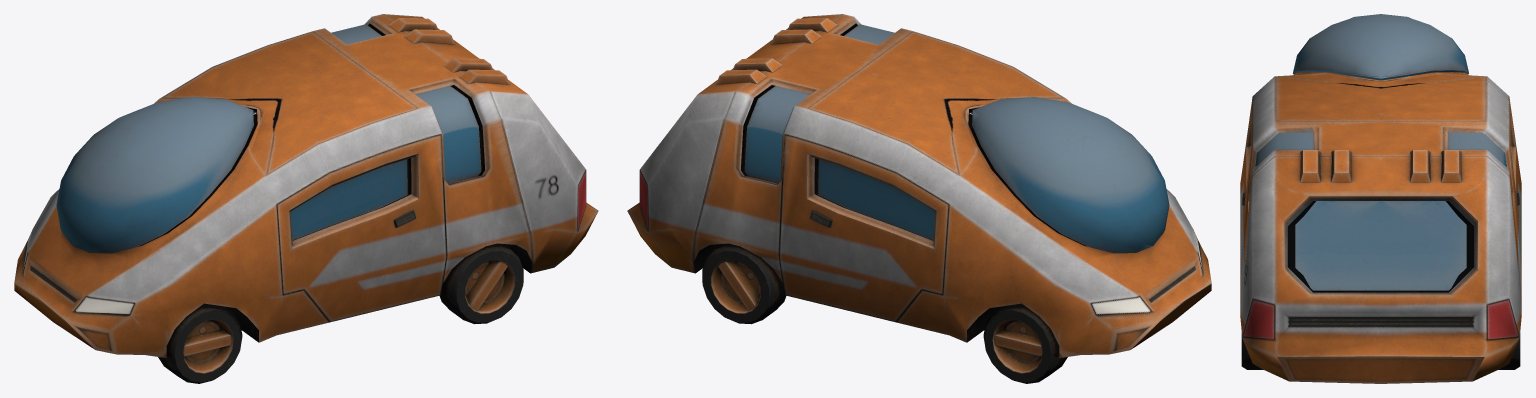
File: fCars.obj
The picture shows the model from 3 angles, left to right: view 1: azimuth 30°, elevation 25°; view 2: azimuth 150°, elevation 25°; view 3: azimuth 270°, elevation 25°; orthographic projection.
Visible parts, largest first — view 1: Object003, Object002; view 2: Object003, Object002; view 3: Object003, Object002.
Part boxes in pixels (bbox=[...]): Object003: bbox=[14, 14, 598, 383]; Object002: bbox=[56, 24, 481, 253]; Object003: bbox=[627, 14, 1211, 383]; Object002: bbox=[744, 24, 1169, 253]; Object003: bbox=[1240, 72, 1521, 383]; Object002: bbox=[1255, 14, 1506, 290].
Size of the model in its own units: 6.84 by 2.89 by 3.28.
1 material, 1 textured.
